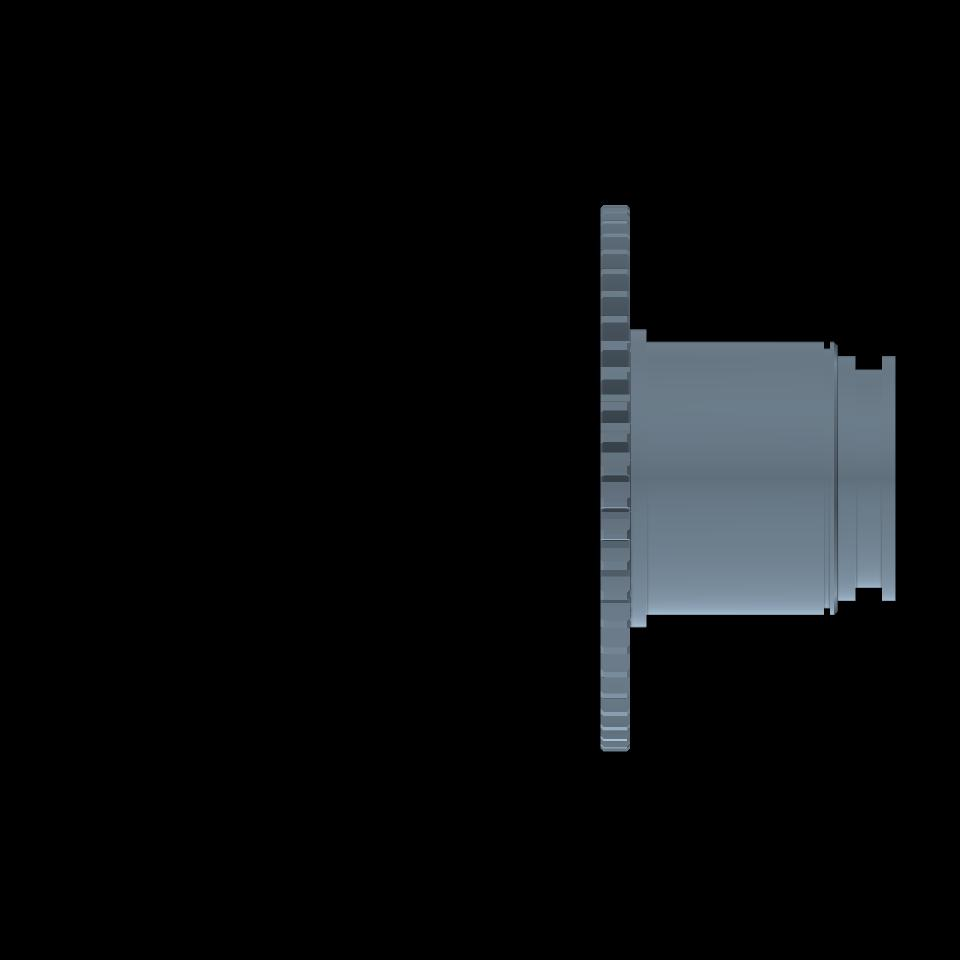Straight: (605, 204, 625, 749)
